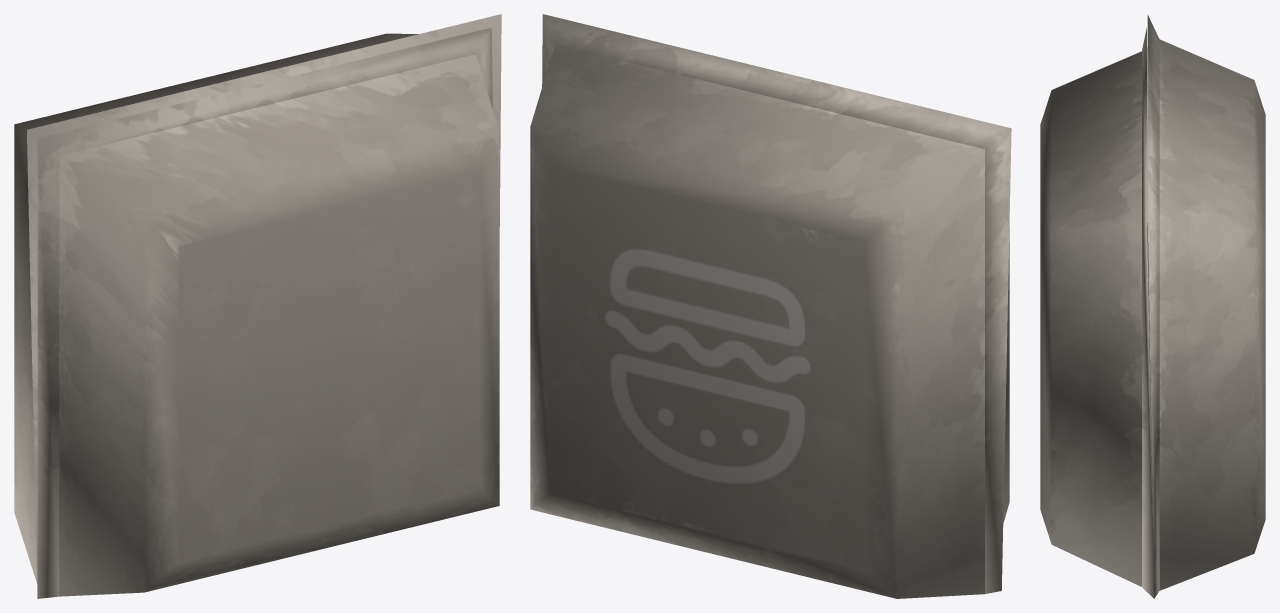
Rendered from packingbox.fbx.
3 renders of one model, left to right at view 1: azimuth 30°, elevation 25°; view 2: azimuth 150°, elevation 25°; view 3: azimuth 270°, elevation 25°, orthographic. The views are drawn at different scales.
Parts seen in each view (by area): view 1: Cube; view 2: Cube; view 3: Cube.
Boxes of the visible parts, left/top/right/bottom form: Cube: left=14, top=14, right=501, bottom=598; Cube: left=530, top=14, right=1011, bottom=598; Cube: left=1040, top=15, right=1265, bottom=598.
Bounding box in the file's own units: 275 × 260 × 136.
1 material, 1 textured.
